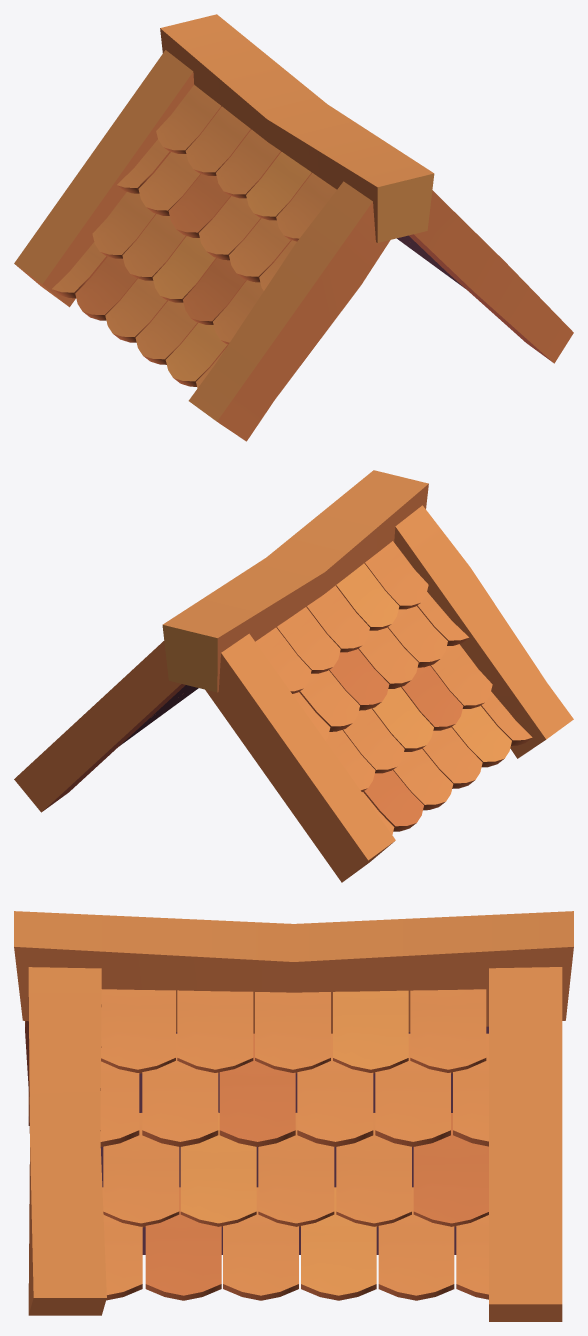
The model's file is Roof01_Wood.glb.
3 renders of one model, top to bottom at view 1: azimuth 30°, elevation 25°; view 2: azimuth 150°, elevation 25°; view 3: azimuth 270°, elevation 25°, orthographic. The views are drawn at different scales.
Visible parts, largest first — view 1: Roof01_Wood; view 2: Roof01_Wood; view 3: Roof01_Wood.
Part boxes in pixels (box(x1,y1,x2,y2)): Roof01_Wood: box(14, 14, 573, 441); Roof01_Wood: box(14, 470, 573, 882); Roof01_Wood: box(14, 911, 573, 1321).
Bounding box in the file's own units: 2.41 × 1.43 × 2.46.
Materials: 1 (1 with a texture image).
